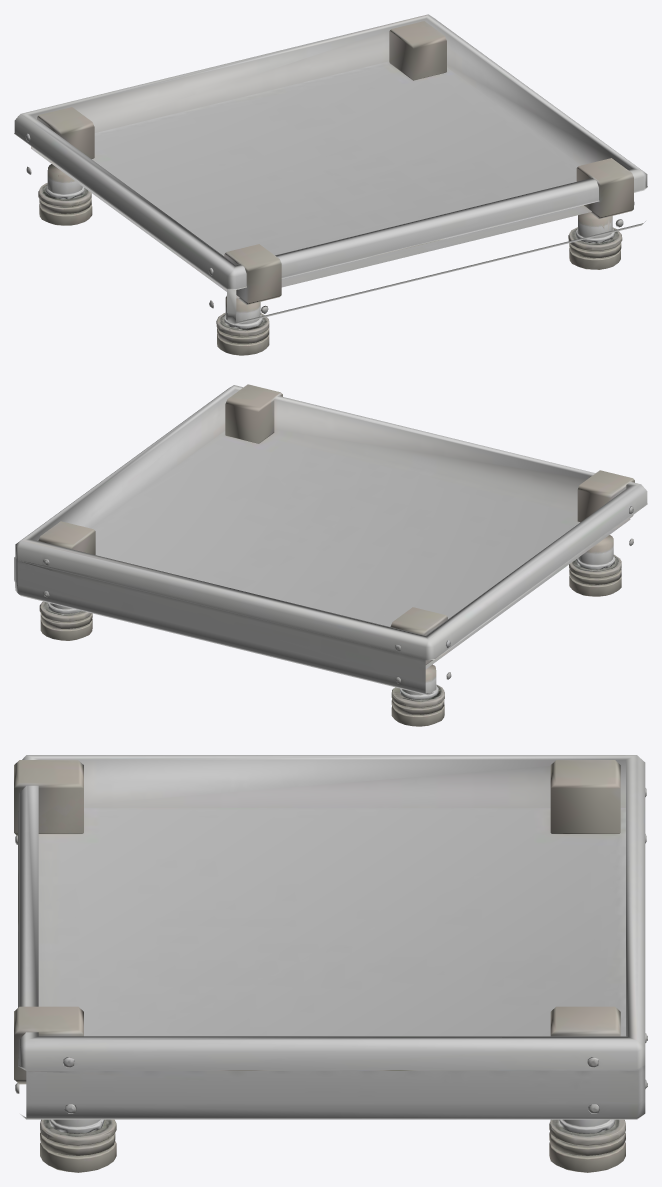
The model's file is original_glb.glb.
3 renders of one model, top to bottom at view 1: azimuth 30°, elevation 25°; view 2: azimuth 150°, elevation 25°; view 3: azimuth 270°, elevation 25°, orthographic. The views are drawn at different scales.
Parts seen in each view (by area): view 1: Champagne Acrylic Plinth; view 2: Champagne Acrylic Plinth; view 3: Champagne Acrylic Plinth.
Part boxes in pixels (x1=…): Champagne Acrylic Plinth: x1=14, y1=14, x2=647, y2=355; Champagne Acrylic Plinth: x1=14, y1=384, x2=647, y2=726; Champagne Acrylic Plinth: x1=14, y1=755, x2=647, y2=1172.
Bounding box in the file's own units: 0.998 × 0.2207 × 0.9043.
1 material, 1 textured.
